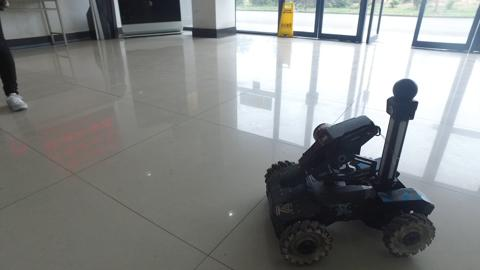chariot: (262, 77, 436, 266)
